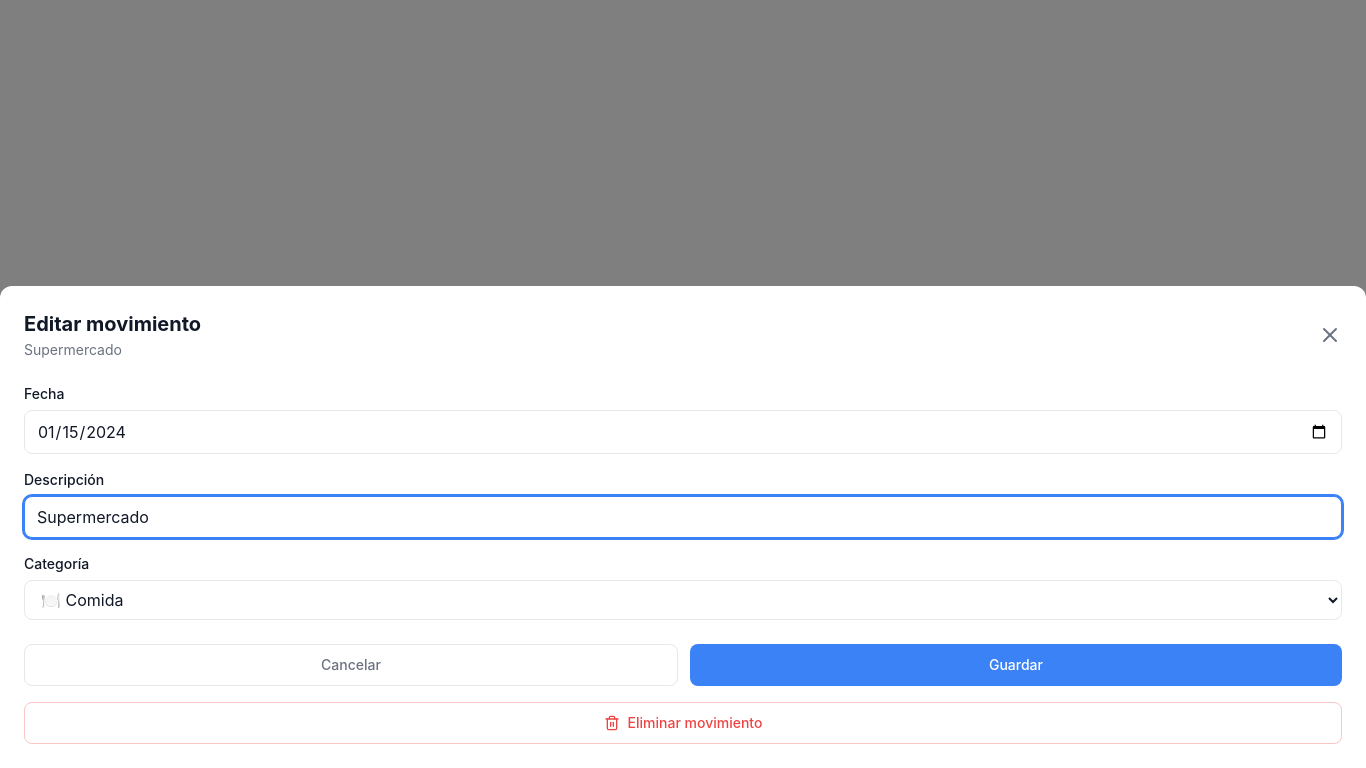
Scenario: EditMovementModal › submit › disables buttons while submitting
Click the button "Guardar" at (1016, 665), box [690,644,1342,686]
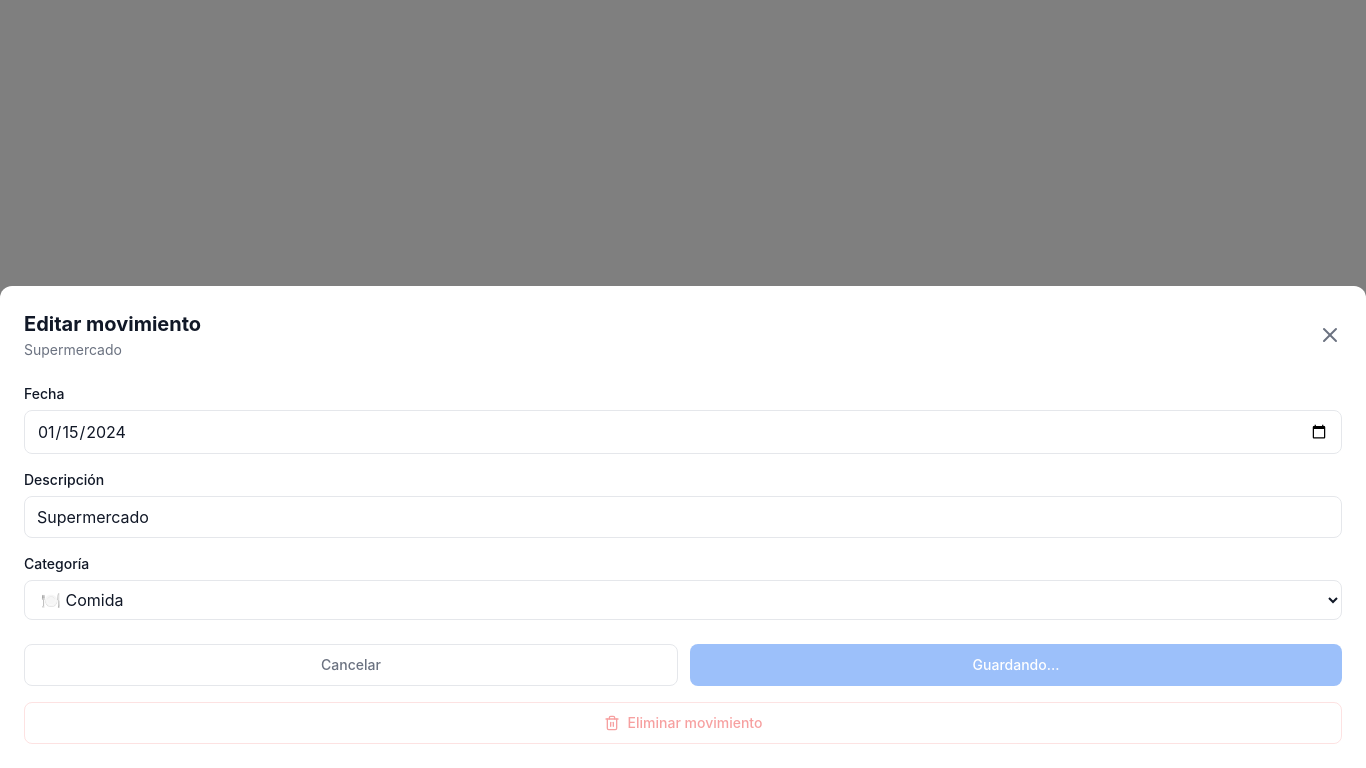
Expected: the button "Guardando..." is disabled, [690,644,1342,686]
